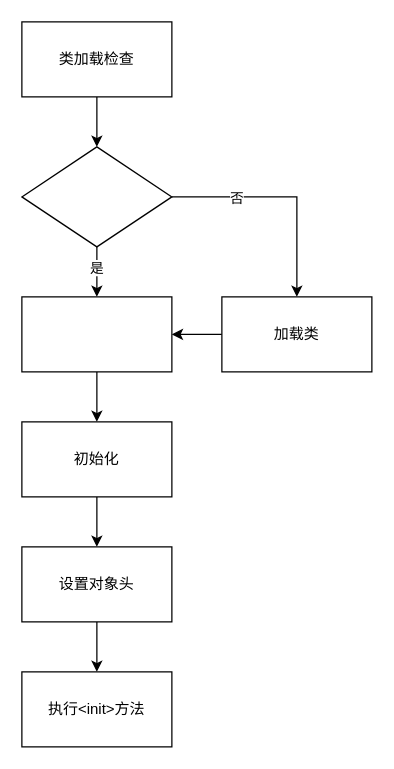
Image size: 394x769. Some labels were removed from this diagram. The shapes that lost their labels are listed below. From the top down, each one's box as (x1, y1, x2, y2) in pixels, then its label:
(21, 146, 172, 247): 类是否加载
(21, 296, 172, 372): 分配内存
